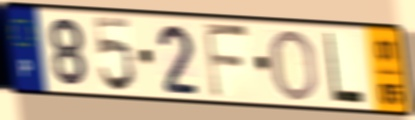2: (153, 19, 205, 98)
5: (93, 14, 138, 95)
8: (47, 15, 90, 89)
F: (201, 19, 252, 101)
L: (323, 30, 367, 107)
O: (269, 27, 321, 104)
